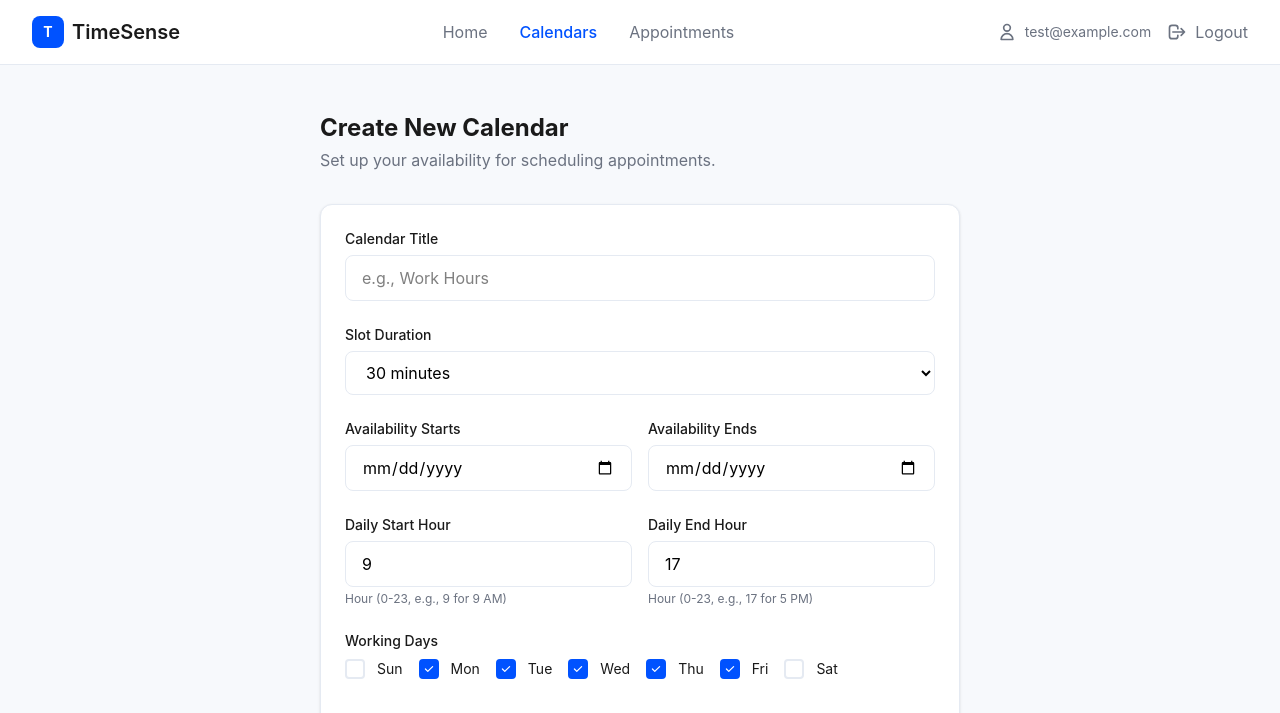
Scenario: New Calendar Page › Authenticated User › Form Validation › should show error when expireAt is before liveAt
Type "Test Calendar" into the field with test id "calendar-title-input" at point(640, 278), box x1=345 y1=255 x2=935 y2=301
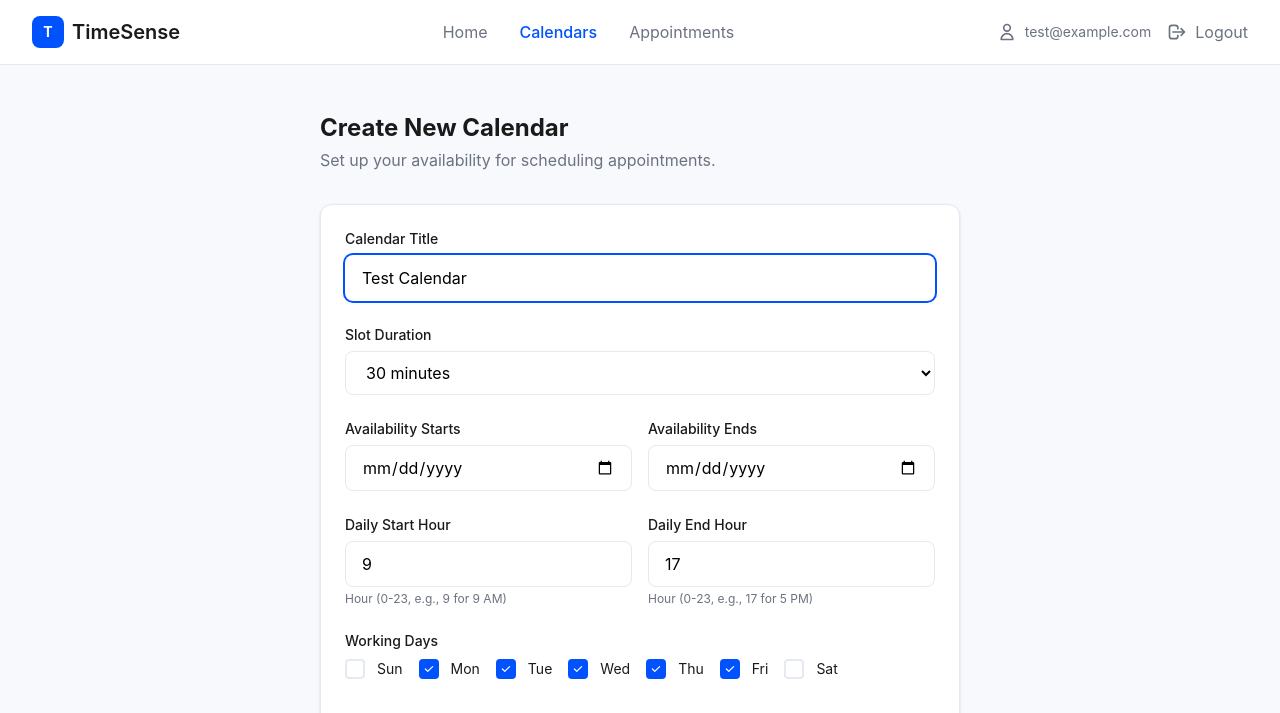
Type "2026-05-01T09:00" into the date field with test id "live-at-input" at point(489, 468), box x1=345 y1=445 x2=632 y2=491
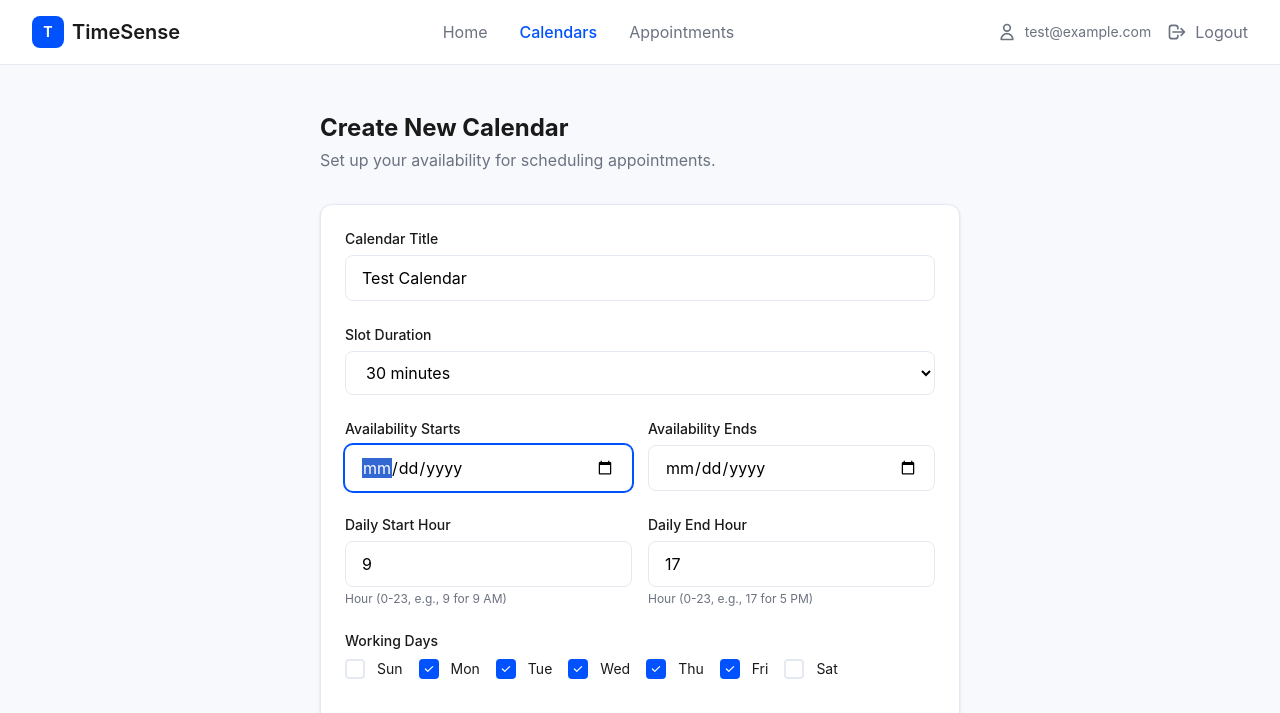
Type "2026-04-01T09:00" into the date field with test id "expire-at-input" at point(792, 468), box x1=648 y1=445 x2=935 y2=491
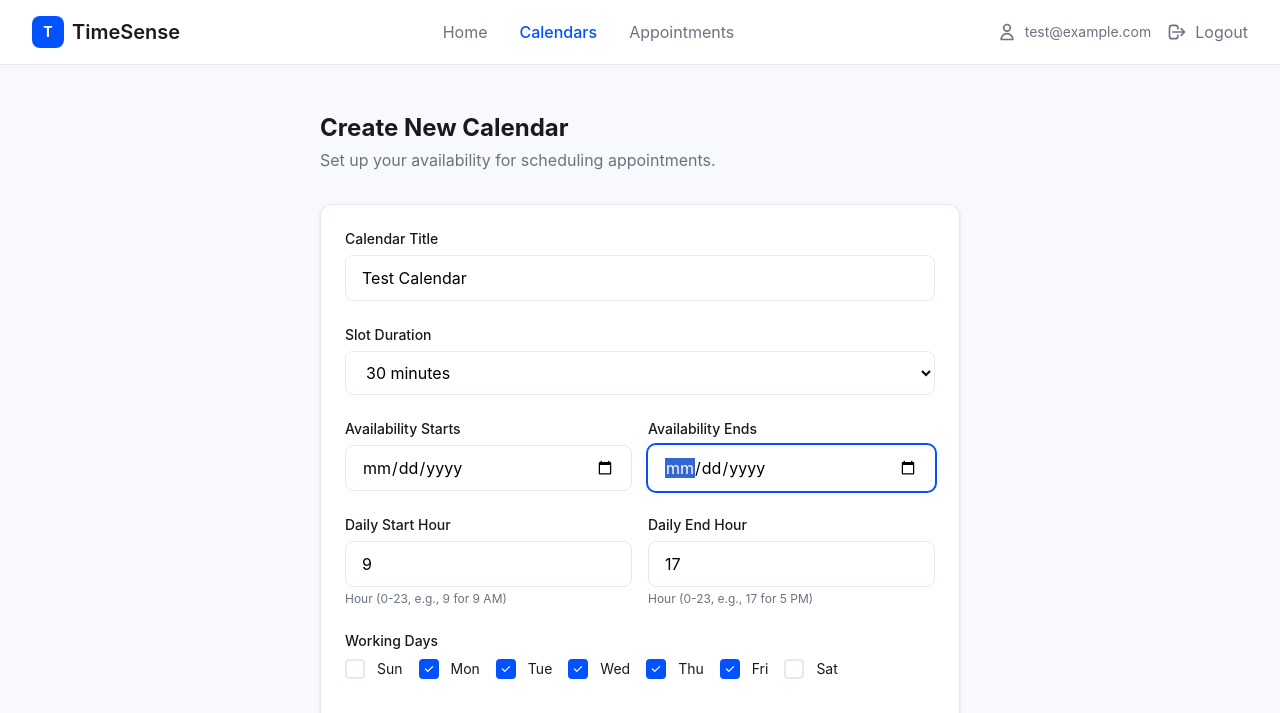
Scroll
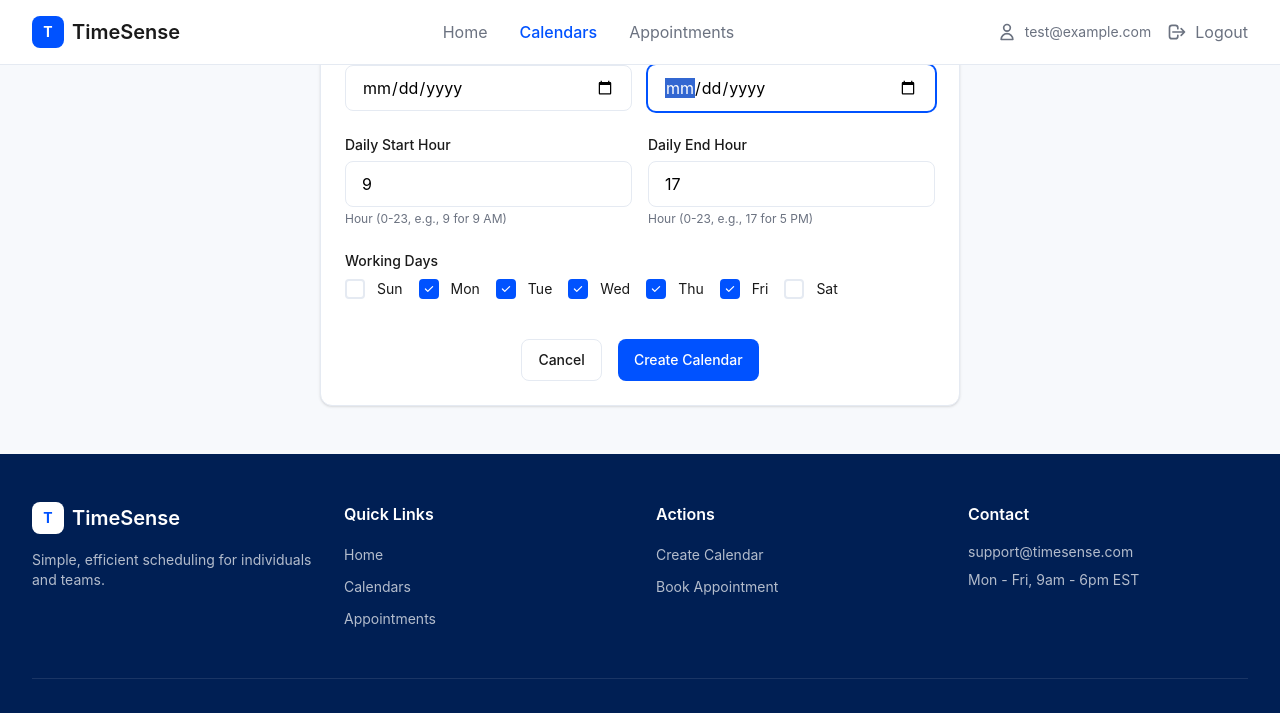
Click the button with test id "create-calendar-button" at point(689, 360), box x1=618 y1=339 x2=759 y2=381
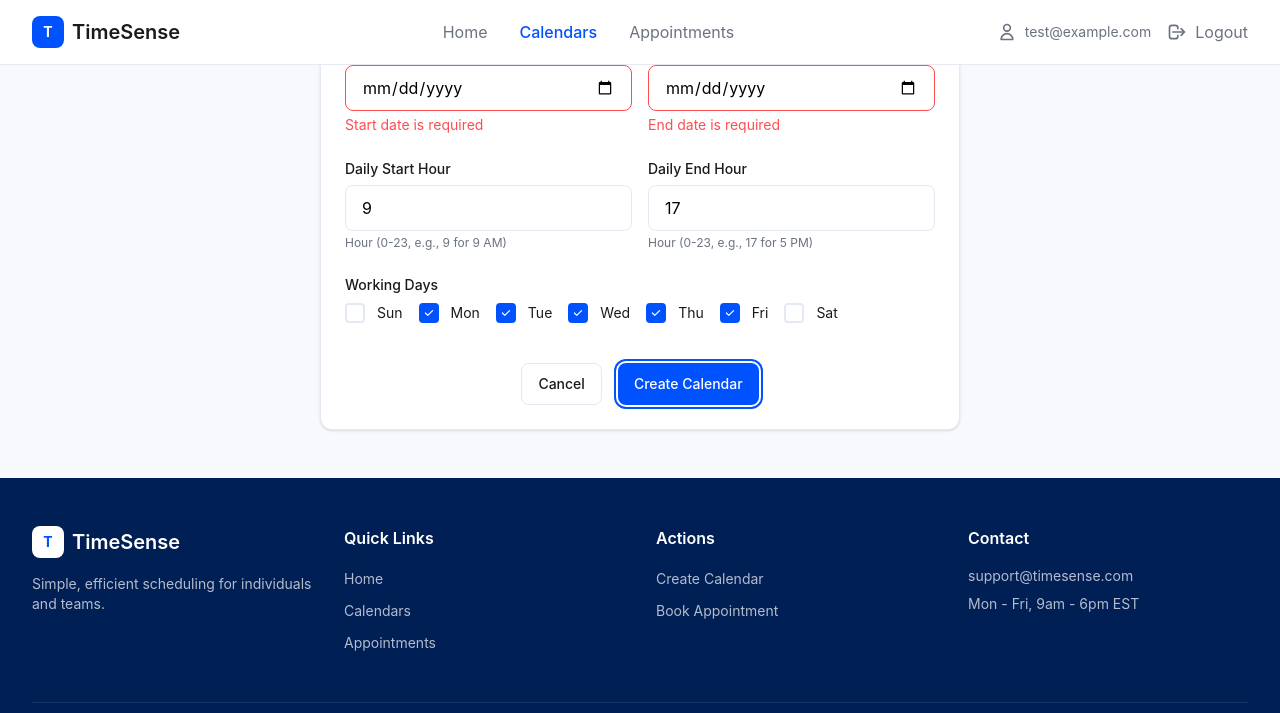
Expected: the text "End date is required" is shown, x1=648 y1=116 x2=780 y2=133
